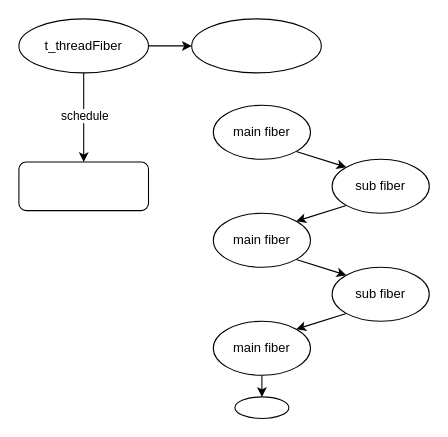
Some shapes in this 448 by 437 pixel diagram are drawn without their labels. Each missing label, with the centre of its shape:
"end" belongs at point 261,407.
"ScheduleTask" belongs at point 83,186.
"thread pool" belongs at point 256,45.
